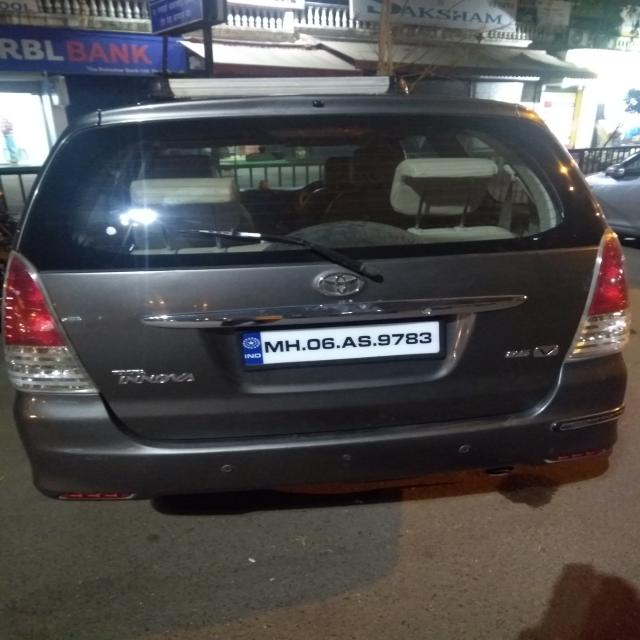Number-Plate: (244, 322, 446, 360)
